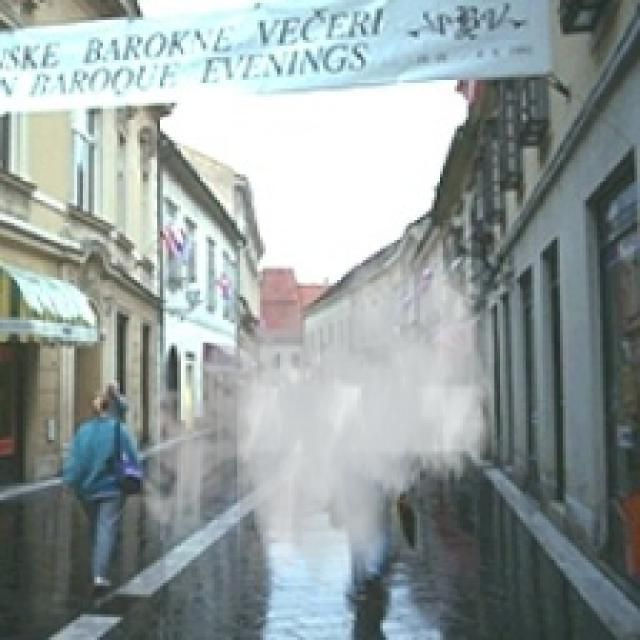Smoke: (128, 226, 494, 612)
